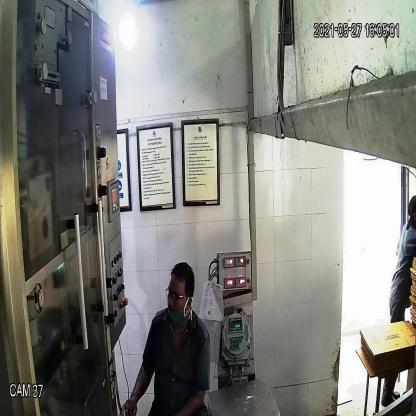goggles: (165, 285, 192, 304)
